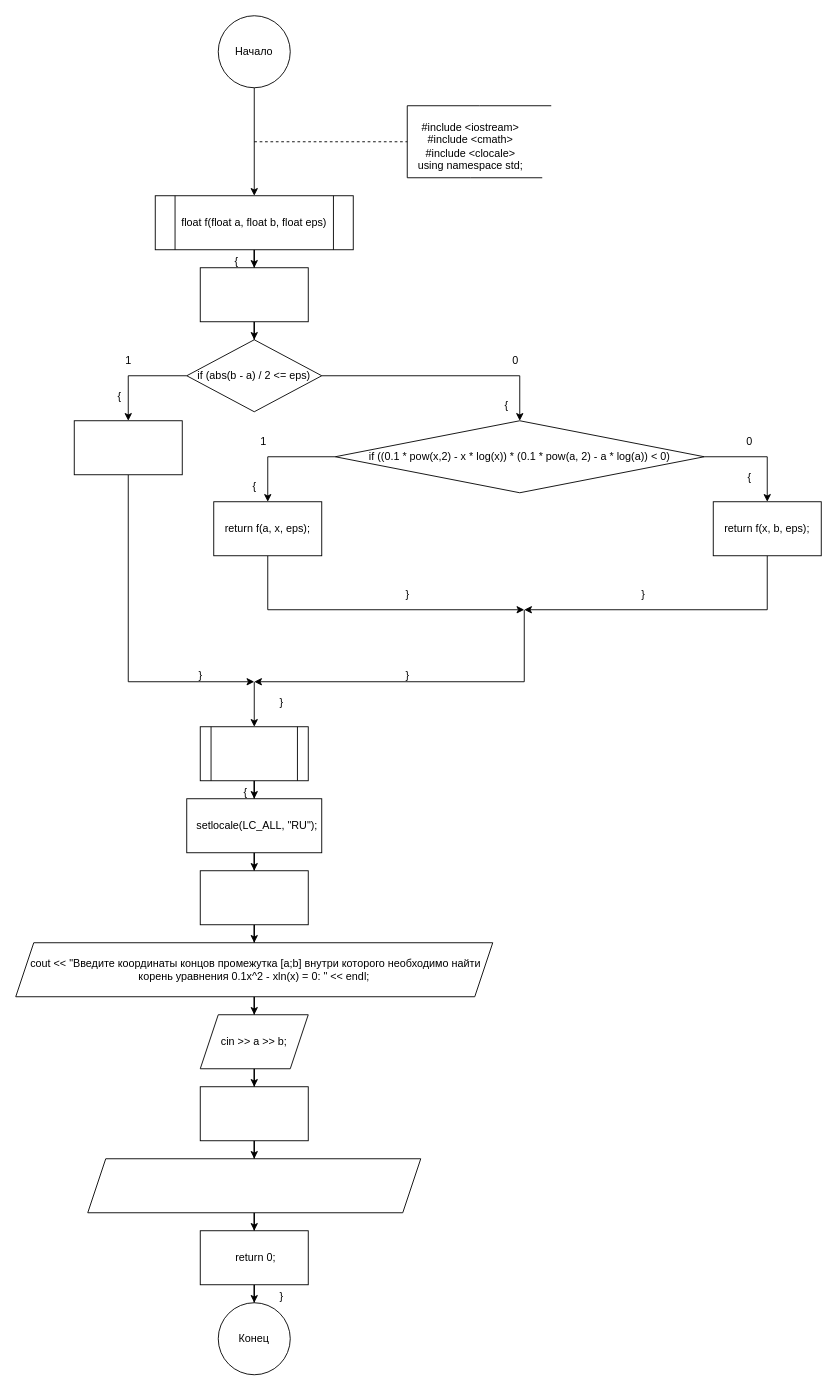
Image size: 837x1391. Some labels were removed from this diagram. Each missing label, with the box of its shape:
cout << "Приближенный корень уравнения x = " << f(a, b, E);: (87, 1158, 421, 1213)
E = 0.000001;: (199, 1086, 308, 1141)
float a, b, E;: (199, 870, 308, 925)
float x = (b + a) / 2;: (199, 267, 308, 322)
int main(): (199, 726, 308, 781)
return x;: (73, 420, 182, 475)
